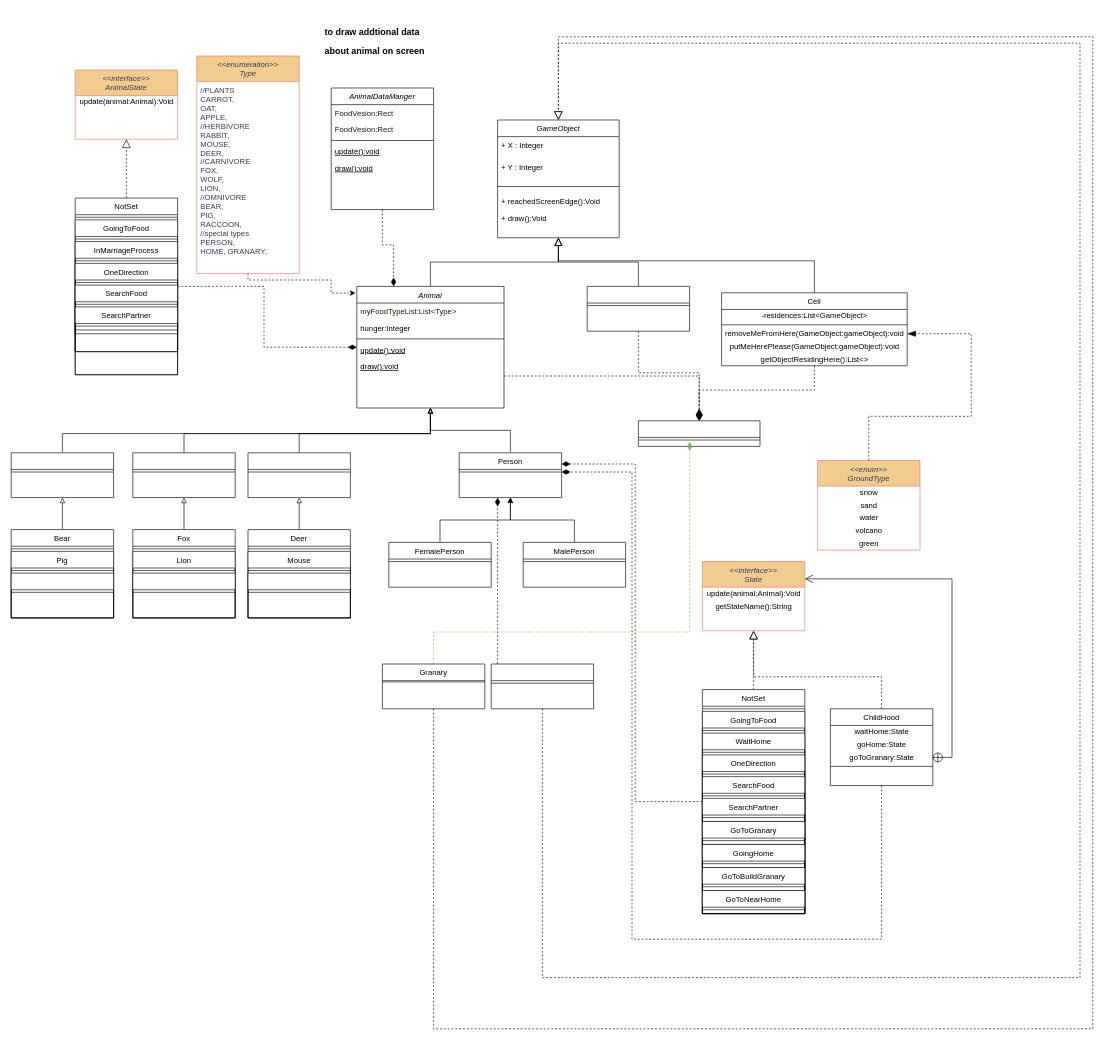
This 1112x1048 diagram has some shape labels left out. Each missing label, with the centre of its shape:
Carnivore: [183,475]
Herbivore: [298,475]
HomeSweetHome: [542,686]
Model: [699,433]
Omnivore: [62,475]
Plant: [638,308]
Rabbit: [298,595]
Raccoon: [62,595]
Wolf: [183,595]
